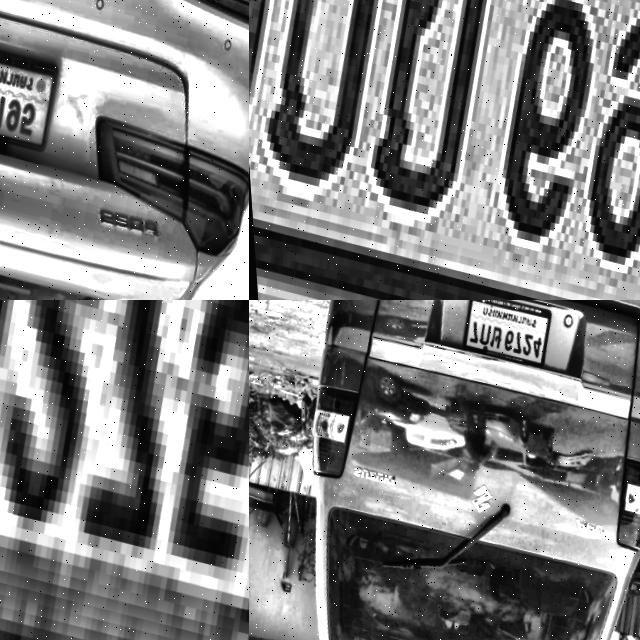license-plate: (249, 0, 640, 300), (0, 300, 249, 640), (0, 26, 62, 154), (453, 300, 556, 369)
